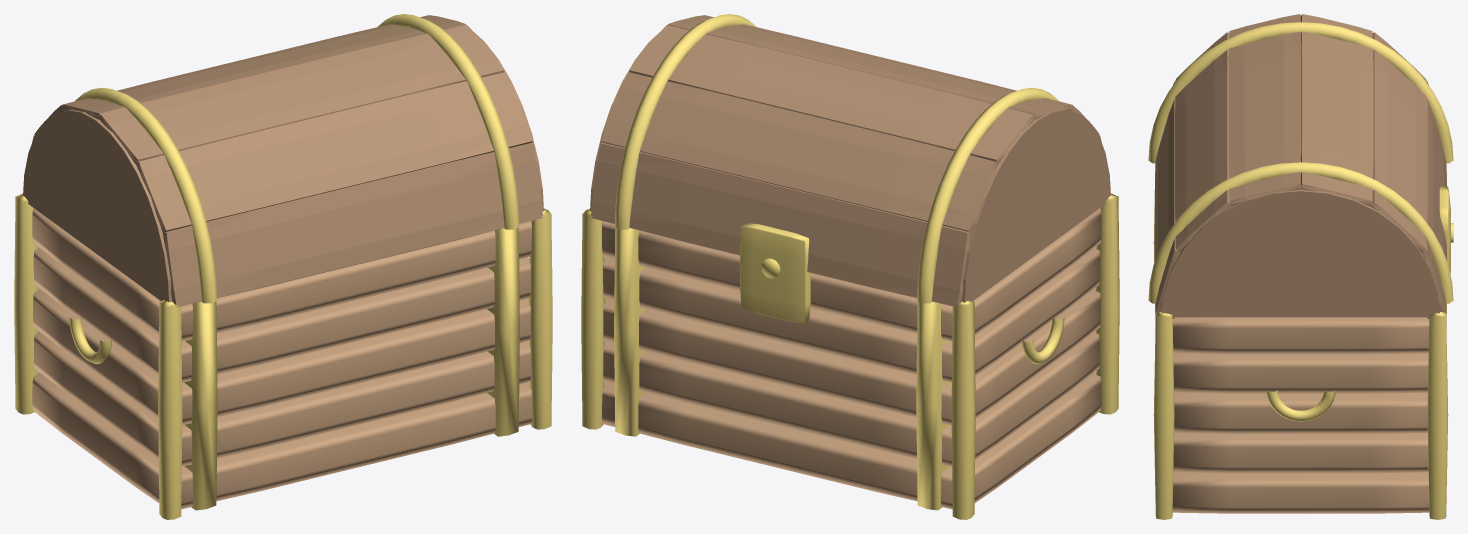
The model's file is Chest.glb.
The picture shows the model from 3 angles, left to right: view 1: azimuth 30°, elevation 25°; view 2: azimuth 150°, elevation 25°; view 3: azimuth 270°, elevation 25°; orthographic projection. The views are drawn at different scales.
Visible parts, largest first — view 1: Lid, Body, Trim; view 2: Lid, Body, Trim; view 3: Lid, Body, Trim.
Boxes of the visible parts, x1=… form: Lid: x1=23, y1=15, x2=543, y2=306; Body: x1=32, y1=208, x2=531, y2=509; Trim: x1=14, y1=14, x2=552, y2=519; Lid: x1=590, y1=15, x2=1110, y2=306; Body: x1=602, y1=208, x2=1101, y2=509; Trim: x1=581, y1=14, x2=1119, y2=519; Lid: x1=1155, y1=14, x2=1446, y2=318; Body: x1=1172, y1=317, x2=1429, y2=513; Trim: x1=1148, y1=22, x2=1453, y2=519.
Bounding box in the file's own units: 5.22 × 4.52 × 3.68.
